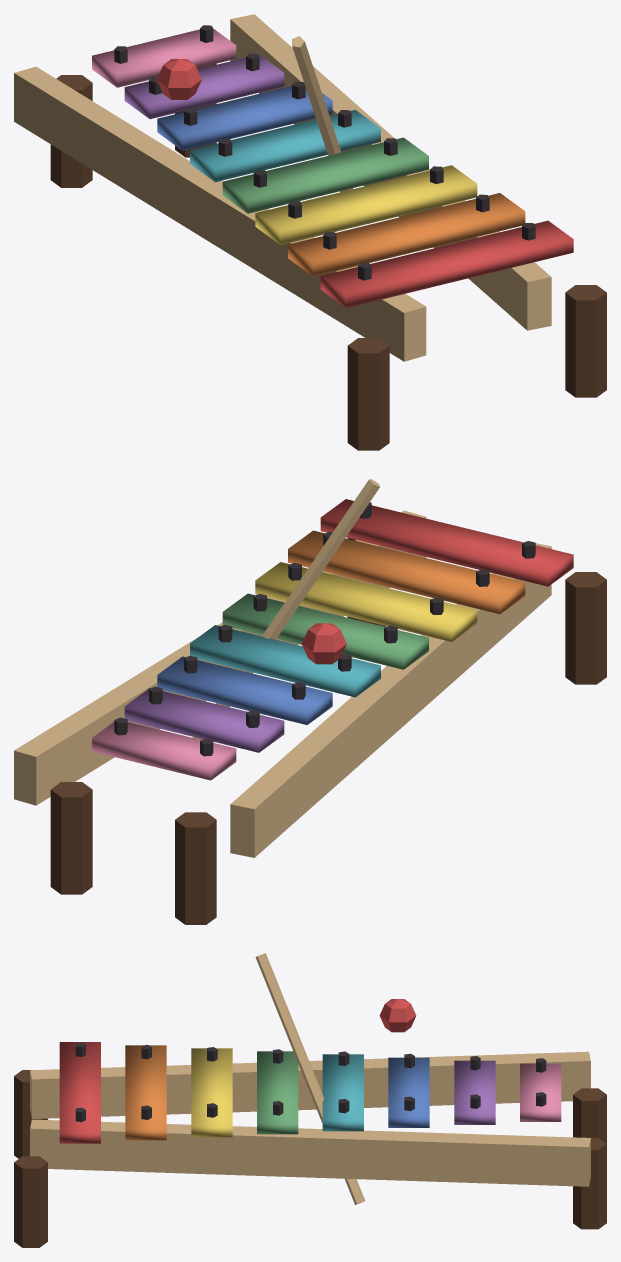
Rendered from xilofono.glb.
3 views of the same model, one above another, from view 1: azimuth 30°, elevation 25°; view 2: azimuth 150°, elevation 25°; view 3: azimuth 270°, elevation 25° (orthographic). The views are drawn at different scales.
Visible parts, largest first — view 1: xilofono; view 2: xilofono; view 3: xilofono.
Part boxes in pixels (<box>): xilofono: <box>14,14,606,450</box>; xilofono: <box>14,479,606,924</box>; xilofono: <box>14,953,606,1247</box>.
Size of the model in its own units: 0.4806 by 0.5248 by 1.22.
